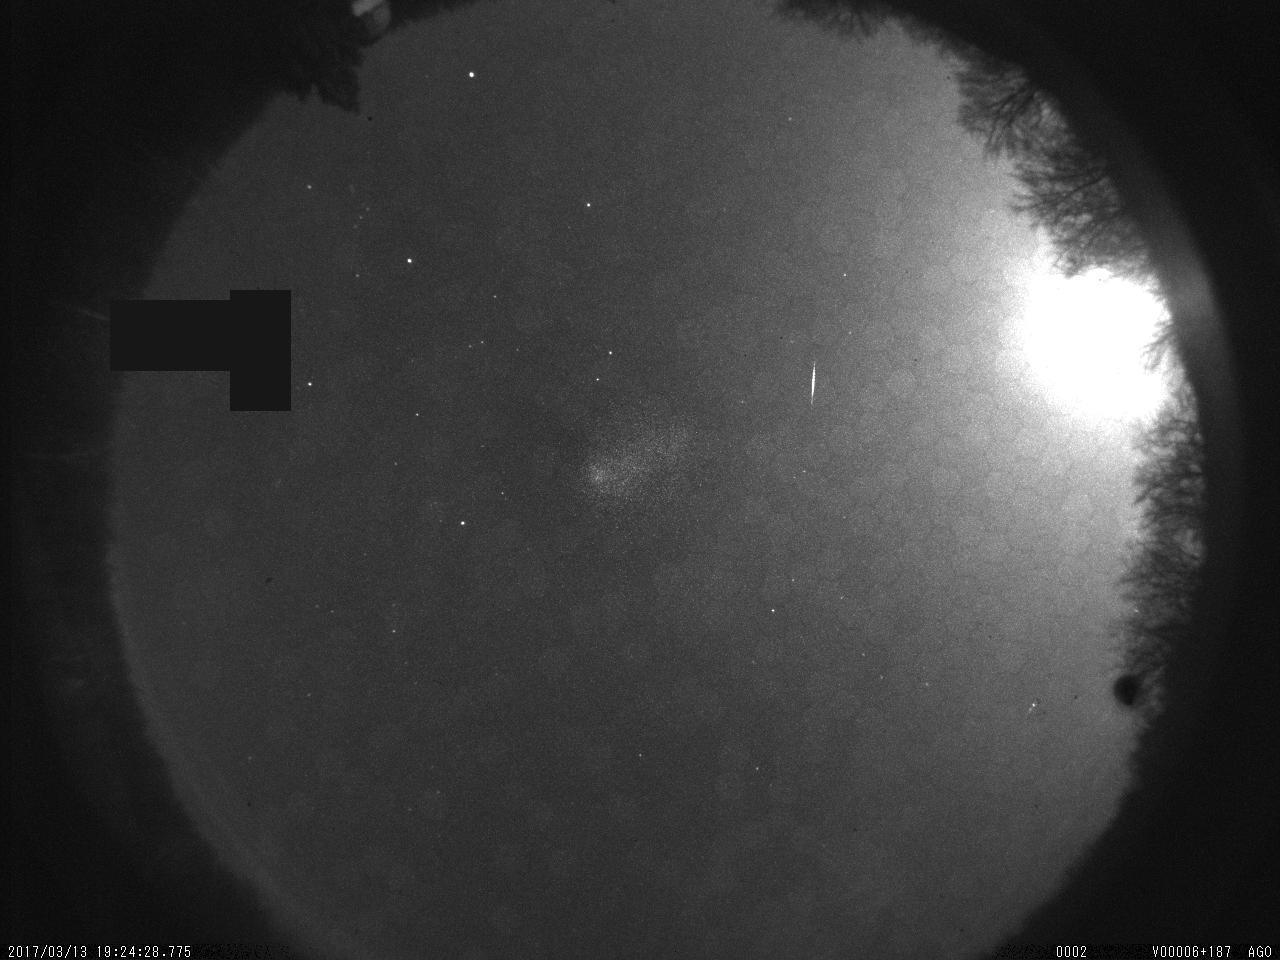meteor: (796, 346, 830, 418)
